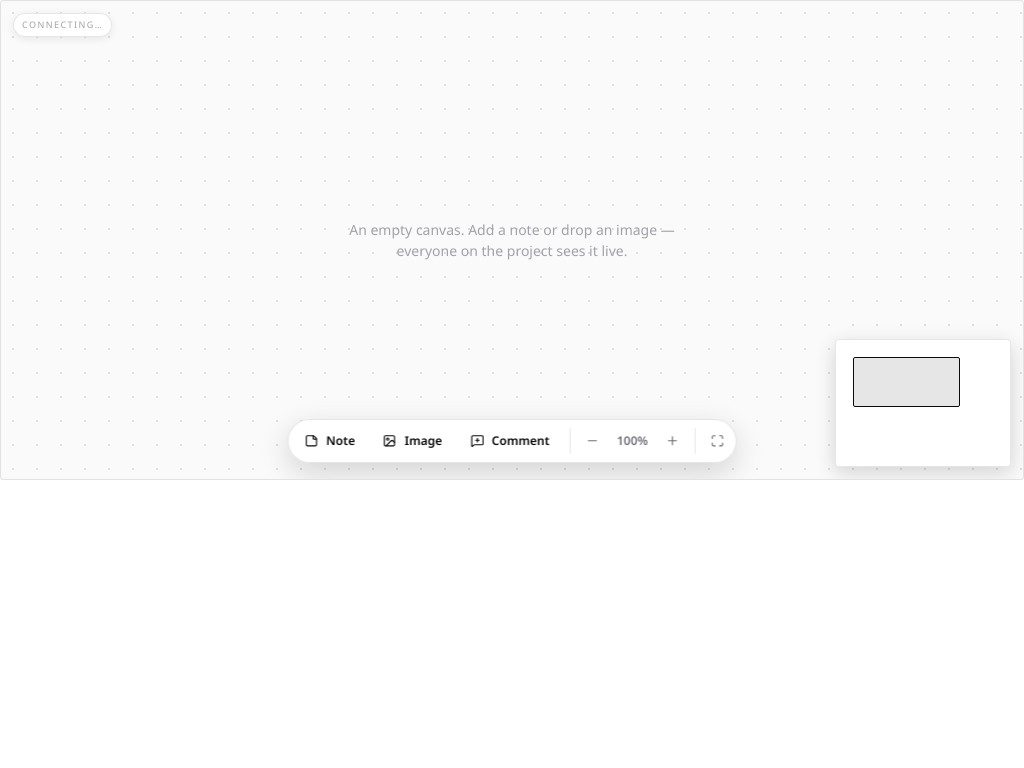
BoardCanvas › drops a comment pin via the toolbar and opens its thread
Click the button "Comment": (510, 441) [458,424,561,458]
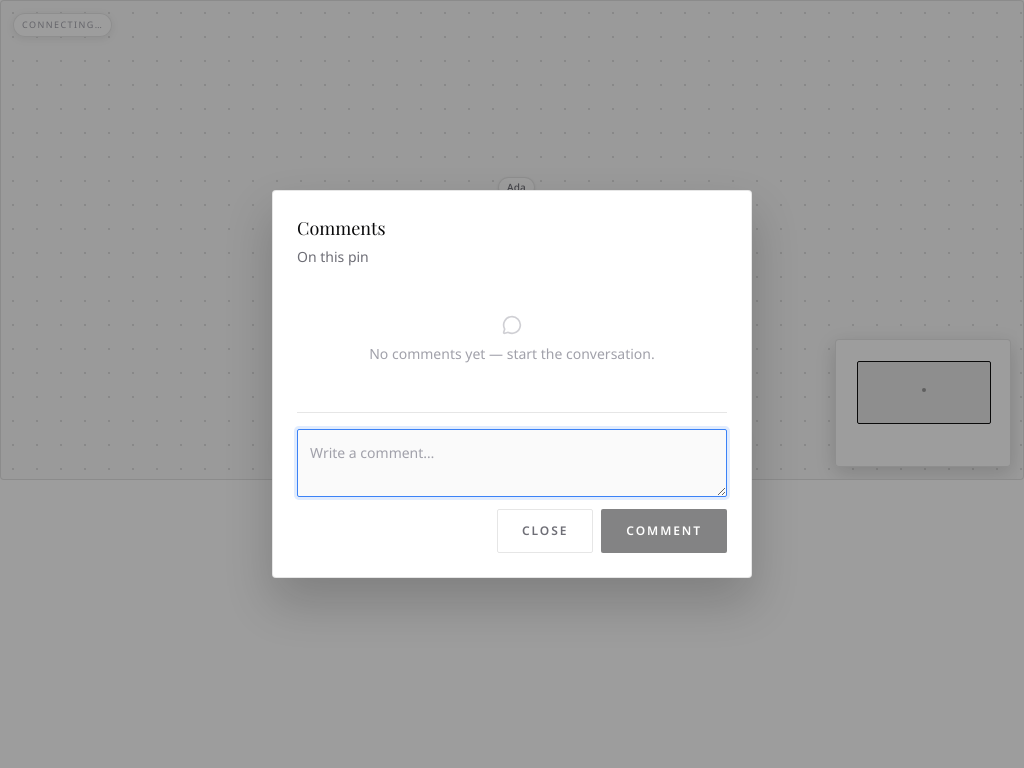
Result: the text "No comments yet — start the conversation." is shown at [369,315,655,363]
